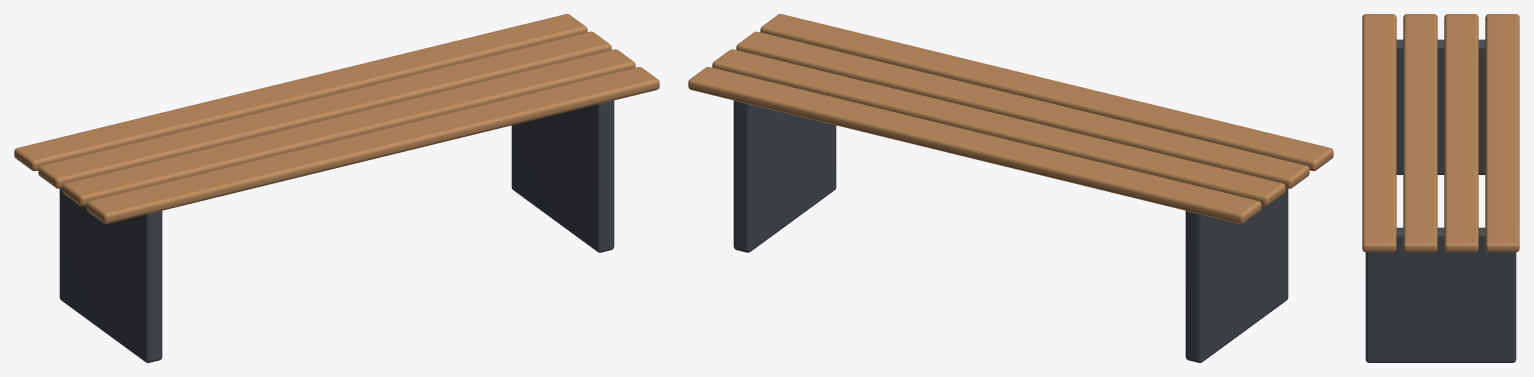
The model's file is bench.glb.
The picture shows the model from 3 angles, left to right: view 1: azimuth 30°, elevation 25°; view 2: azimuth 150°, elevation 25°; view 3: azimuth 270°, elevation 25°; orthographic projection. The views are drawn at different scales.
Visible parts, largest first — view 1: Cube, Cube.004; view 2: Cube, Cube.004; view 3: Cube, Cube.004.
Boxes of the visible parts, x1=… form: Cube: x1=14, y1=14, x2=659, y2=223; Cube.004: x1=59, y1=100, x2=614, y2=362; Cube: x1=688, y1=14, x2=1333, y2=223; Cube.004: x1=733, y1=100, x2=1288, y2=362; Cube: x1=1362, y1=14, x2=1519, y2=252; Cube.004: x1=1365, y1=39, x2=1516, y2=362.
Bounding box in the file's own units: 1.6 × 0.445 × 0.46.
